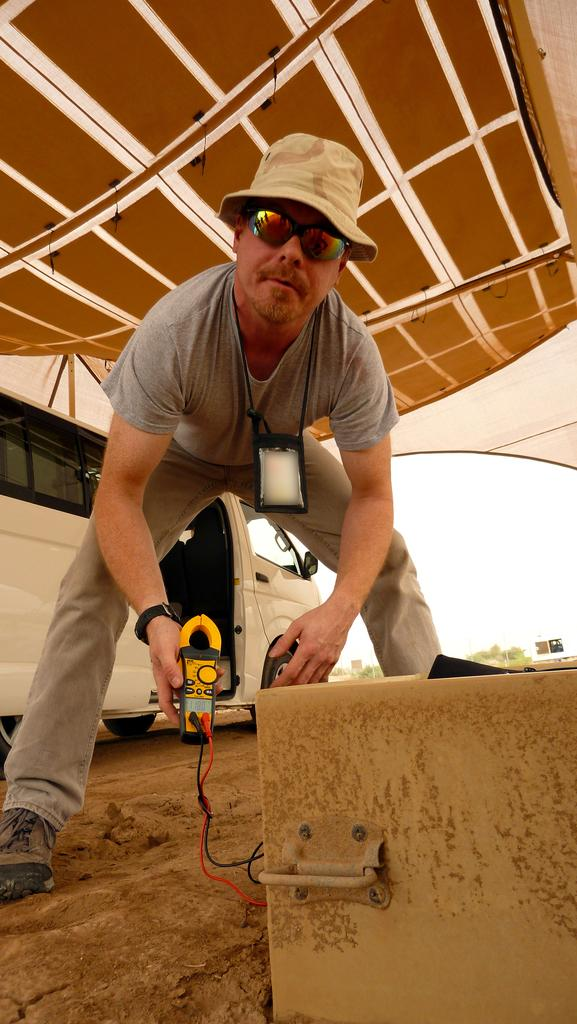Hat: (215, 128, 378, 264)
